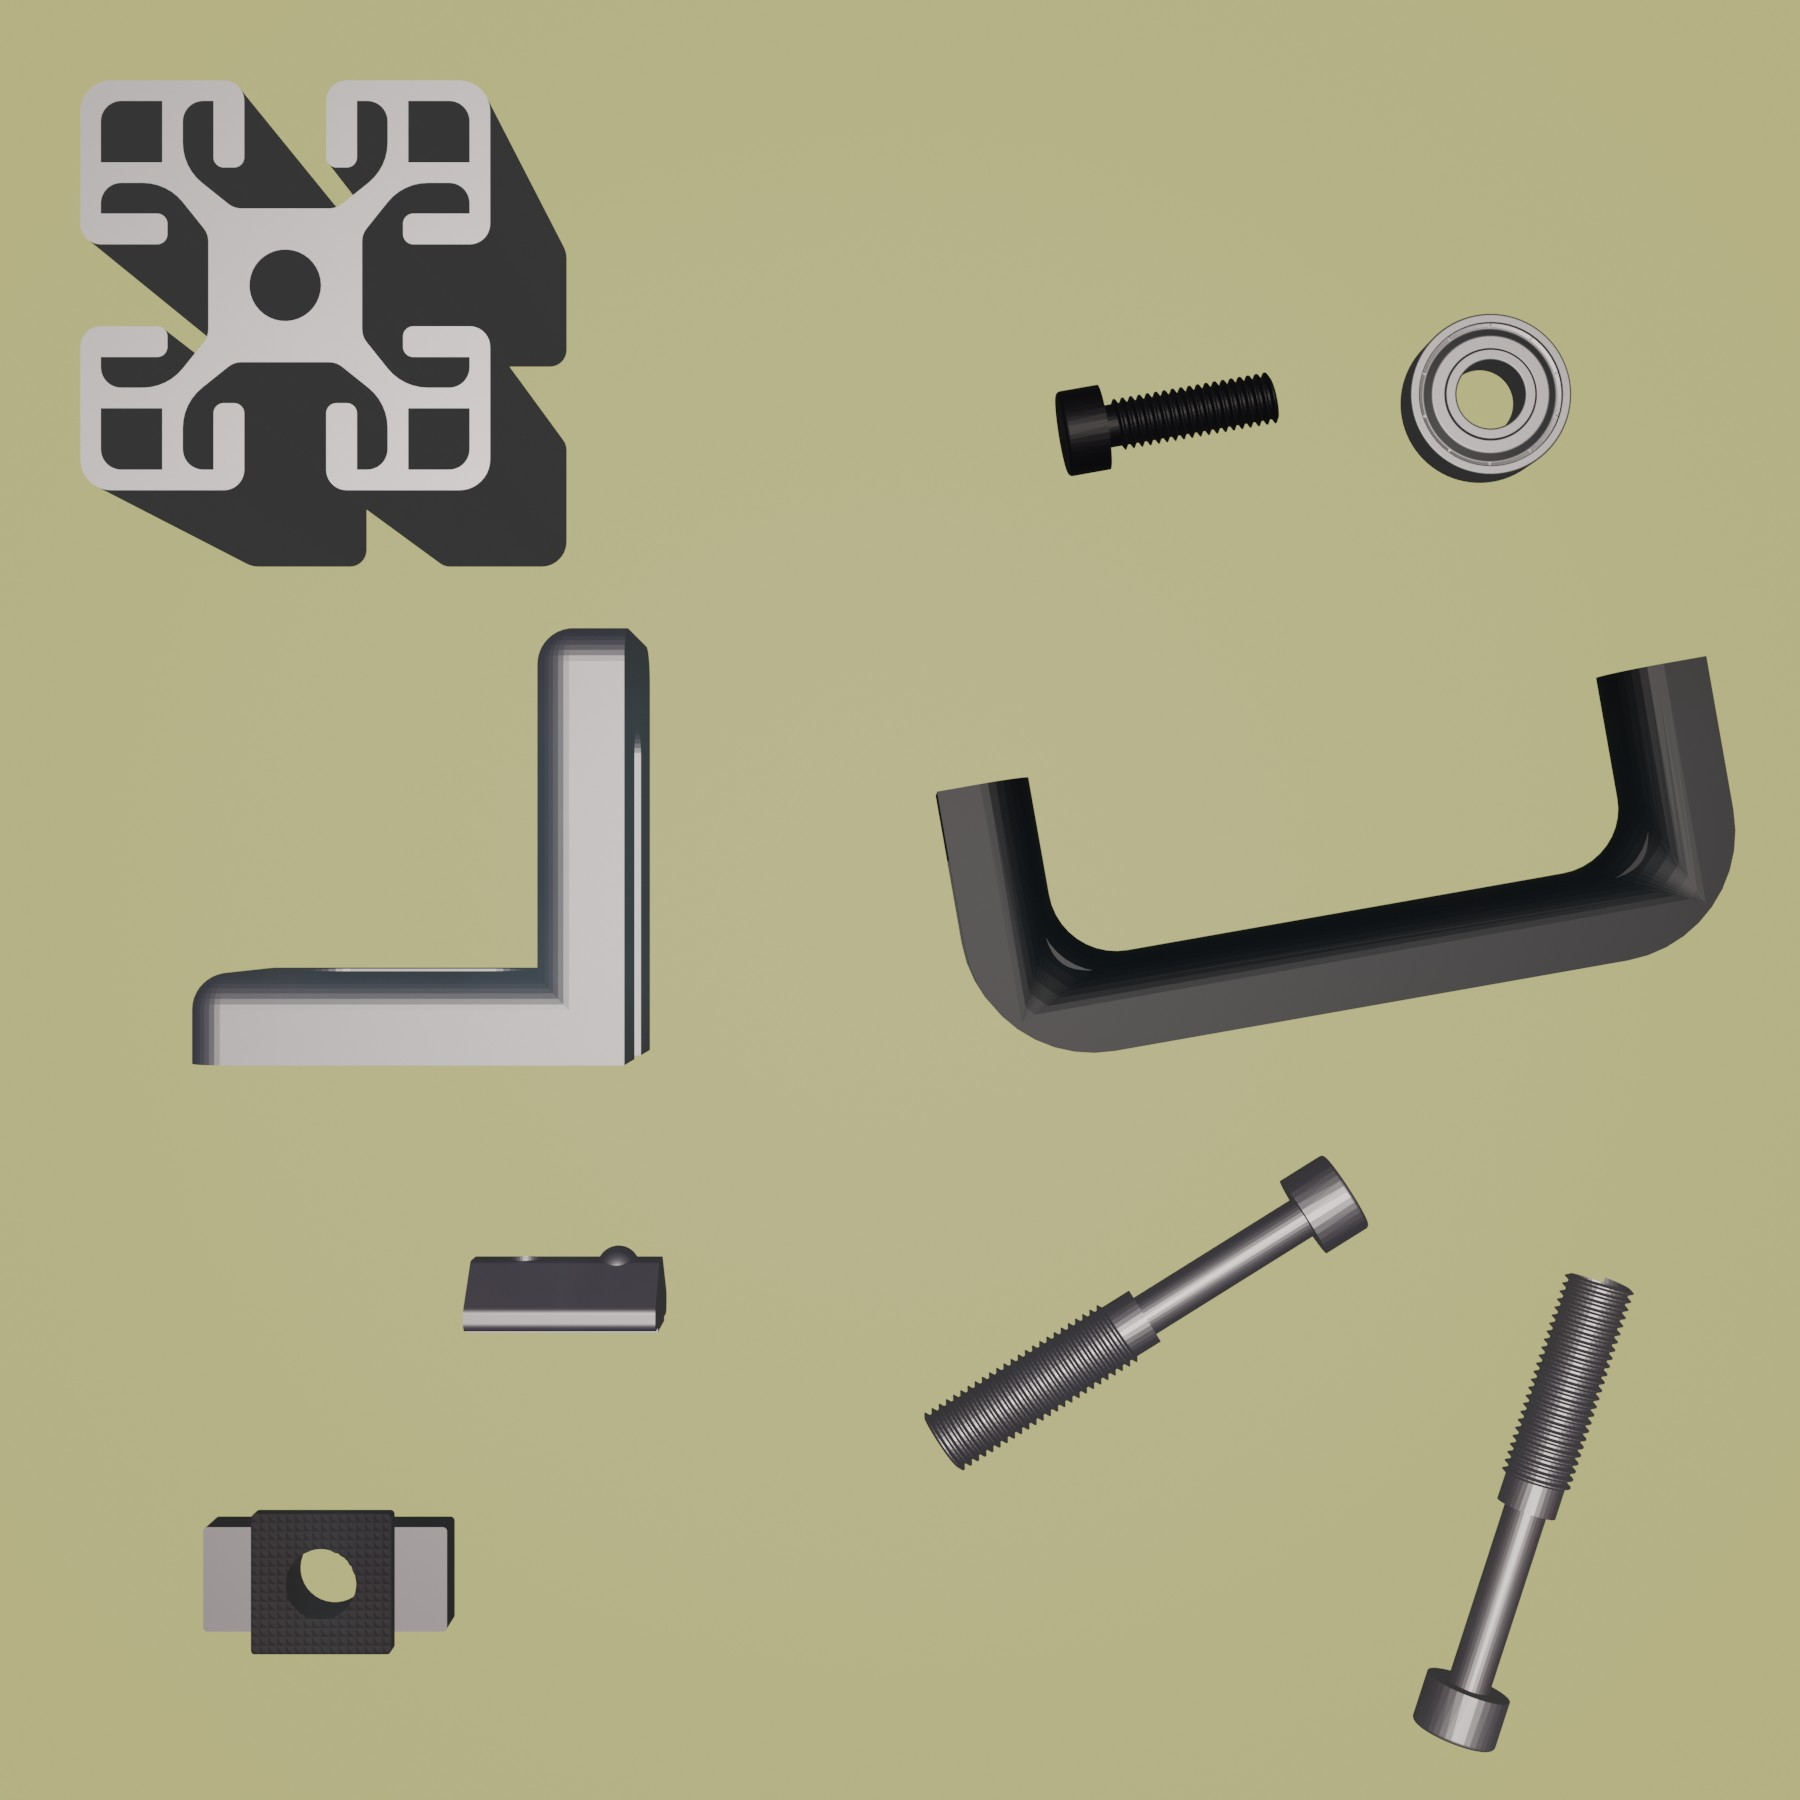Aluminium Extension: (76, 69, 570, 569)
Ball Bearing: (1398, 312, 1573, 485)
Multiwinkel: (190, 625, 654, 1071)
Pull Handle: (933, 649, 1741, 1057)
Shoulder Socket Head Cap Screw: (921, 1149, 1370, 1474), (1409, 1268, 1634, 1755)
Socket Head Cap Screw: (1050, 369, 1281, 480)
T Nut Square: (196, 1503, 458, 1658)
T Spring Nut: (457, 1240, 671, 1338)
